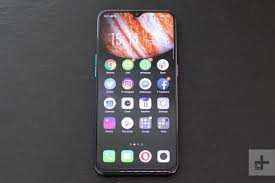oppo: (94, 5, 183, 181)
